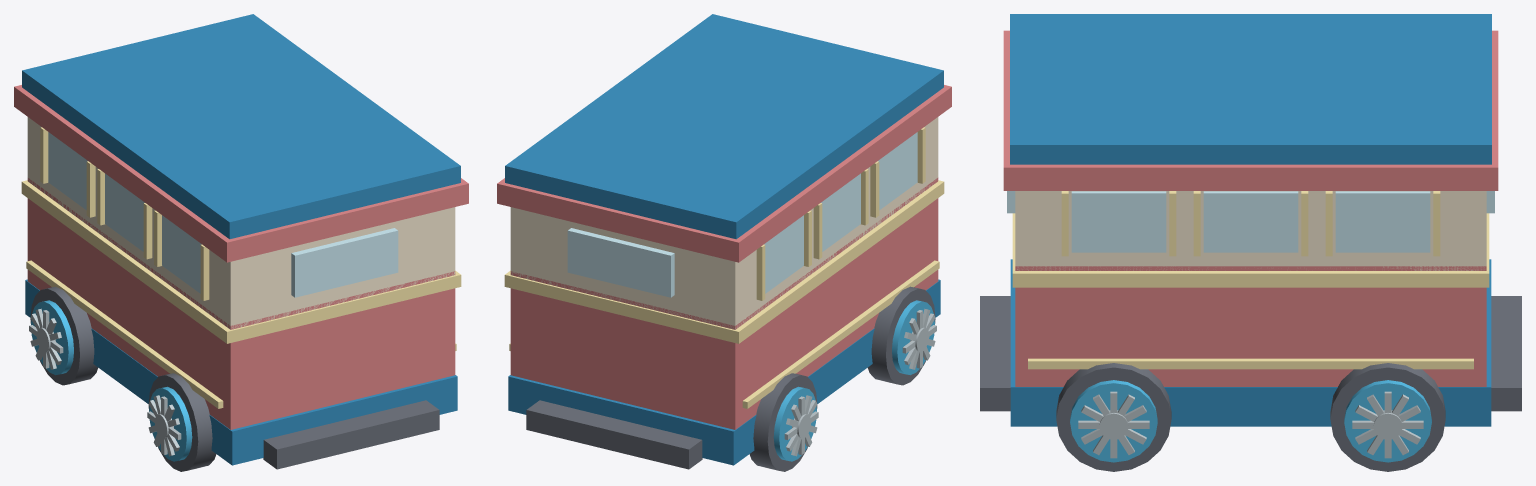
File: storybook-coach.gltf
3 renders of one model, left to right at view 1: azimuth 30°, elevation 25°; view 2: azimuth 150°, elevation 25°; view 3: azimuth 270°, elevation 25°, orthographic. The views are drawn at different scales.
Visible parts, largest first — view 1: rounded dark roof, sunny lower painted coach, warm cream upper windows band, painted red roof rim, carriage frame, gold window stripes, shiny carriage window (×3), front coach buffers, tyre (×2), front coach window, blue wheel centre (×2), bottom side gold lining (+1 smaller); view 2: rounded dark roof, sunny lower painted coach, warm cream upper windows band, painted red roof rim, carriage frame, gold window stripes, shiny carriage window (×3), back coach buffers, tyre (×2), rear coach window, blue wheel centre (×2), bottom side gold lining (+1 smaller); view 3: rounded dark roof, sunny lower painted coach, shiny carriage window (×3), warm cream upper windows band, painted red roof rim, carriage frame, tyre (×2), gold window stripes, blue wheel centre (×2), bottom side gold lining, front coach buffers, back coach buffers (+1 smaller).
Part boxes in pixels (<box>): rounded dark roof: <box>22,14,460,239</box>; sunny lower painted coach: <box>27,178,455,429</box>; warm cream upper windows band: <box>27,117,455,329</box>; painted red roof rim: <box>14,85,468,262</box>; carriage frame: <box>25,279,457,465</box>; gold window stripes: <box>21,180,461,343</box>; shiny carriage window (×3): <box>48,132,201,293</box>; front coach buffers: <box>263,400,439,469</box>; tyre (×2): <box>30,286,216,471</box>; front coach window: <box>291,228,398,297</box>; blue wheel centre (×2): <box>31,300,192,461</box>; bottom side gold lining: <box>26,260,223,408</box>; rounded dark roof: <box>505,14,943,239</box>; sunny lower painted coach: <box>510,177,938,429</box>; warm cream upper windows band: <box>510,117,938,328</box>; painted red roof rim: <box>497,85,951,262</box>; carriage frame: <box>508,279,940,465</box>; gold window stripes: <box>504,180,944,343</box>; shiny carriage window (×3): <box>764,132,917,293</box>; back coach buffers: <box>526,400,702,469</box>; tyre (×2): <box>749,286,935,471</box>; rear coach window: <box>567,228,674,297</box>; blue wheel centre (×2): <box>773,300,934,461</box>; bottom side gold lining: <box>742,260,939,408</box>; rounded dark roof: <box>1010,14,1491,164</box>; sunny lower painted coach: <box>1015,266,1486,386</box>; shiny carriage window (×3): <box>1071,191,1430,252</box>; warm cream upper windows band: <box>1015,191,1486,270</box>; painted red roof rim: <box>1003,30,1498,190</box>; carriage frame: <box>1010,259,1491,426</box>; tyre (×2): <box>1056,363,1445,471</box>; gold window stripes: <box>1012,213,1489,287</box>; blue wheel centre (×2): <box>1070,380,1431,462</box>; bottom side gold lining: <box>1028,358,1473,369</box>; front coach buffers: <box>980,296,1010,411</box>; back coach buffers: <box>1491,296,1521,411</box>.
Size of the model in its own units: 2.92 by 2.76 by 4.23.
